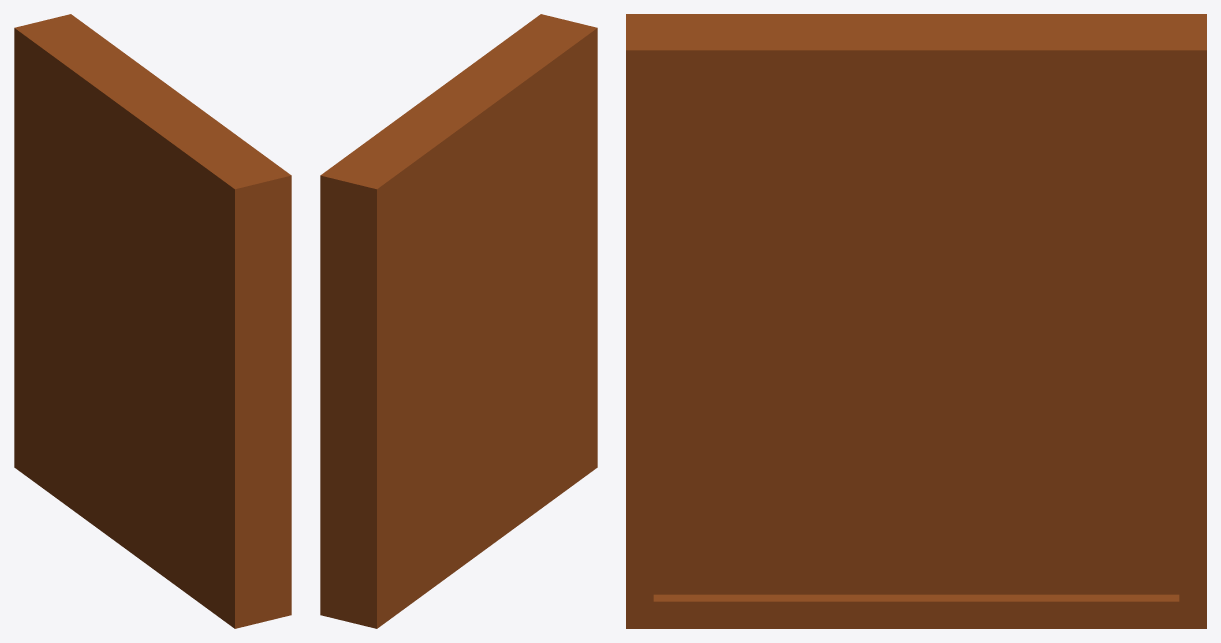
Rendered from Picture Frame 1.fbx.
The picture shows the model from 3 angles, left to right: view 1: azimuth 30°, elevation 25°; view 2: azimuth 150°, elevation 25°; view 3: azimuth 270°, elevation 25°; orthographic projection. The views are drawn at different scales.
Visible parts, largest first — view 1: Picture Frame 1; view 2: Picture Frame 1; view 3: Picture Frame 1.
Part boxes in pixels (x1,y1,x2,y2): Picture Frame 1: [14, 14, 291, 628]; Picture Frame 1: [320, 14, 597, 628]; Picture Frame 1: [626, 14, 1206, 628].
Size of the model in its own units: 0.2278 by 1.69 by 1.54.
